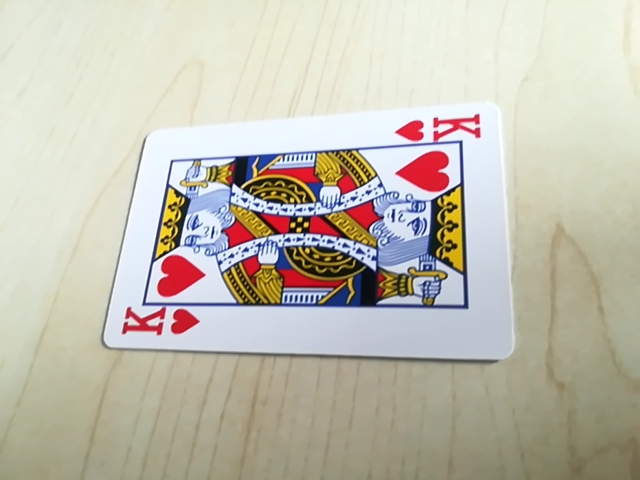hx k: (393, 110, 487, 147), (118, 303, 202, 343)
